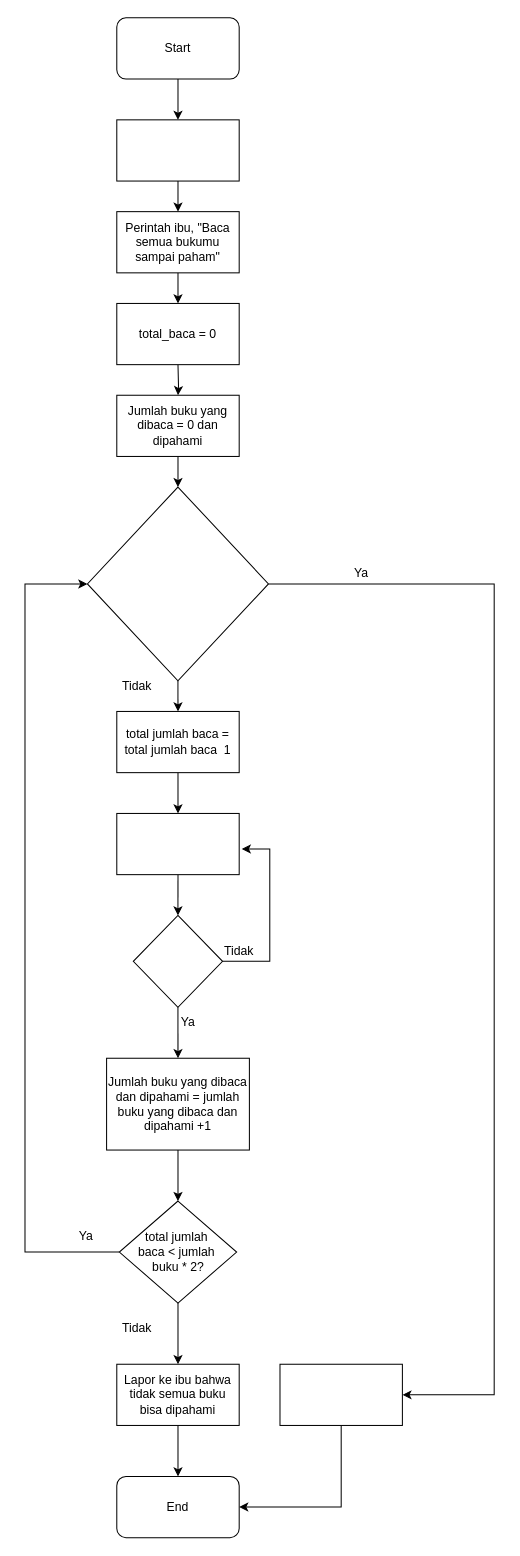
Image size: 520x1556. Some labels were removed from this diagram. The shapes that lost their labels are listed below. From the top down, each one's box as (x1, y1, x2, y2) in pixels, then its label:
(116, 119, 239, 181): Jumlah buku = 10
(86, 486, 268, 681): Jumlah buku yang dibaca == jumlah buku
(116, 812, 239, 875): Baca 1 buku yang belum dibaca
(132, 914, 223, 1007): paham?
(279, 1363, 402, 1425): Lapor ke ibu bahwa semua buku sudah diabca dan dipahami
